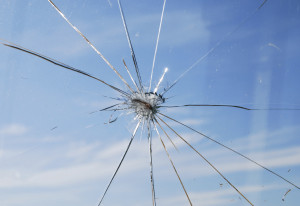bullseye: (98, 74, 188, 132)
crack: (125, 140, 292, 198)
